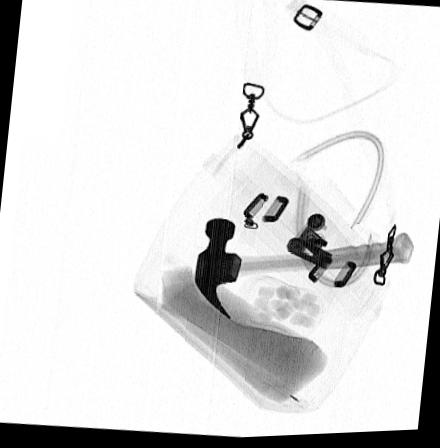Hammer: (192, 218, 414, 323)
